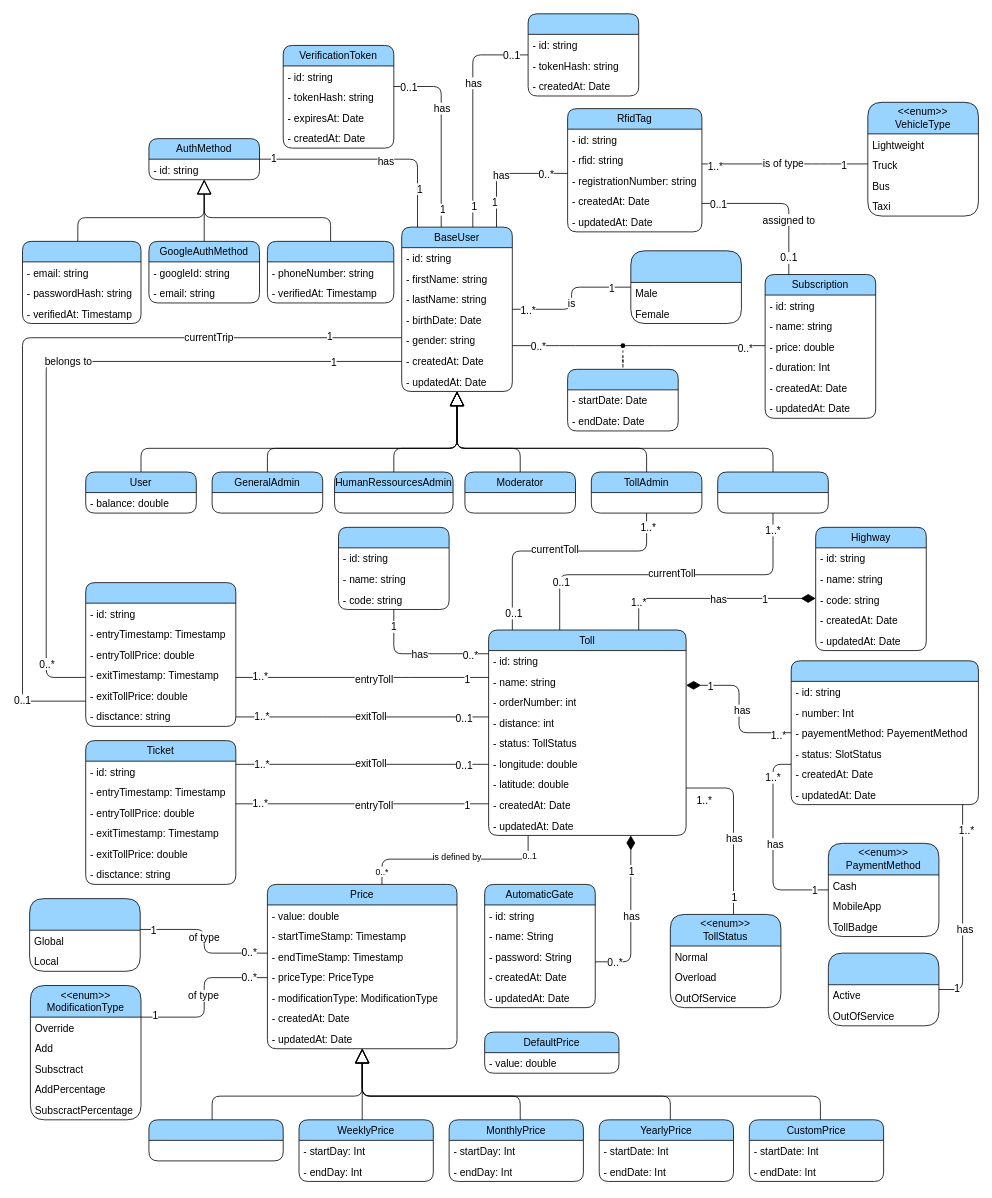
The diagram is 992 pixels wide and 1198 high, and some of its shapes have lost their labels. The shapes that lost their labels are listed below. From the top down, each one's box as (x1, y1, x2, y2) in pixels, then its label:
(527, 13, 639, 96): RefreshToken
(22, 241, 141, 324): EmailAuthMethod
(267, 241, 394, 303): PhoneAuthMethod
(630, 250, 741, 324): <<enum>> Gender
(567, 369, 678, 431): UserSubscription
(717, 471, 828, 513): GateAdmin
(338, 527, 449, 609): Wilaya
(85, 582, 236, 726): Trip
(790, 660, 978, 805): lane
(29, 898, 140, 971): <<enum>> PriceType
(828, 952, 939, 1026): <<enum>> LaneStatus
(148, 1119, 283, 1161): DailyPrice
